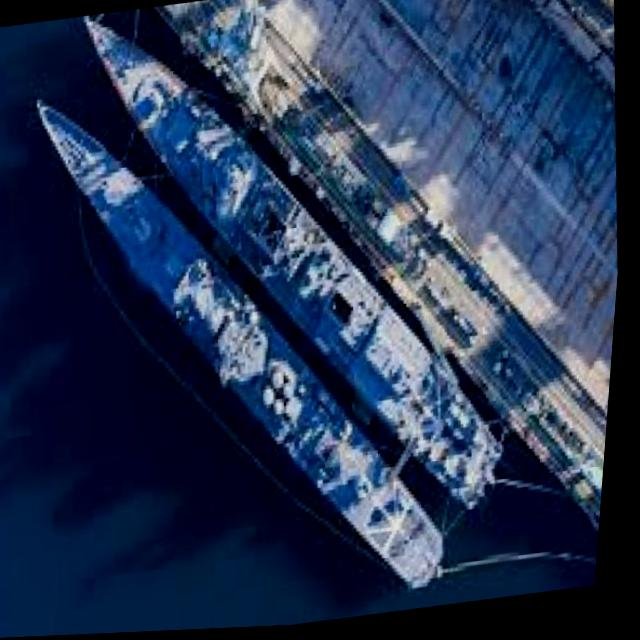ship2: (89, 19, 511, 518), (44, 102, 452, 603)
